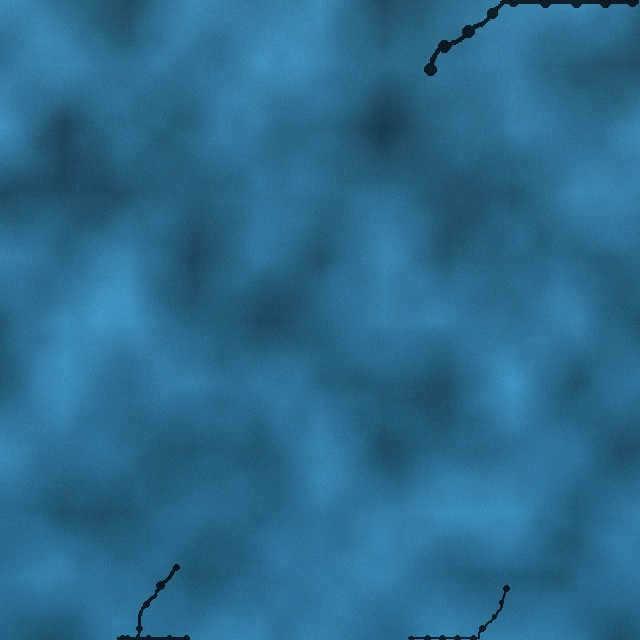crack: (423, 0, 639, 76), (112, 562, 193, 639), (404, 584, 510, 639)
